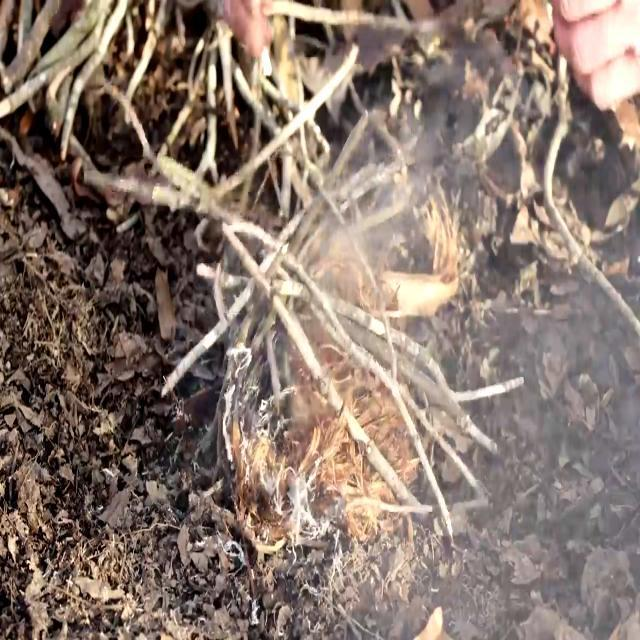Smoke: (240, 46, 634, 606)
